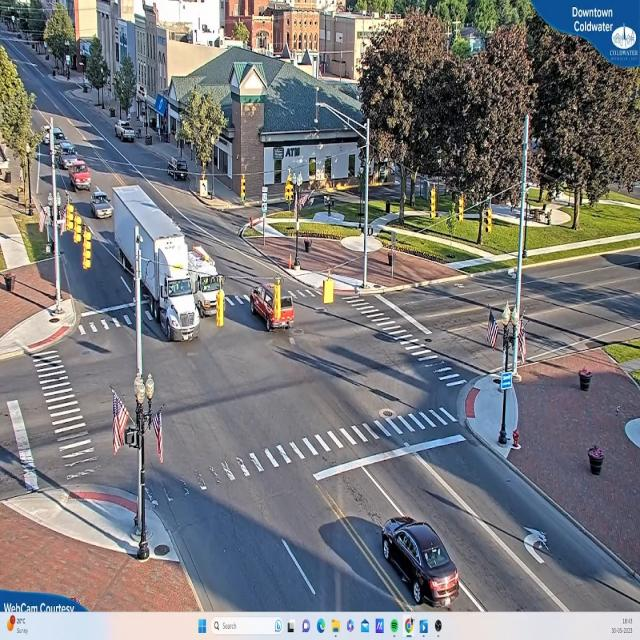car: (382, 517, 462, 609), (251, 277, 294, 334), (91, 191, 113, 218), (72, 165, 93, 190), (117, 122, 137, 144)
truck: (151, 228, 200, 348), (190, 252, 225, 314)
